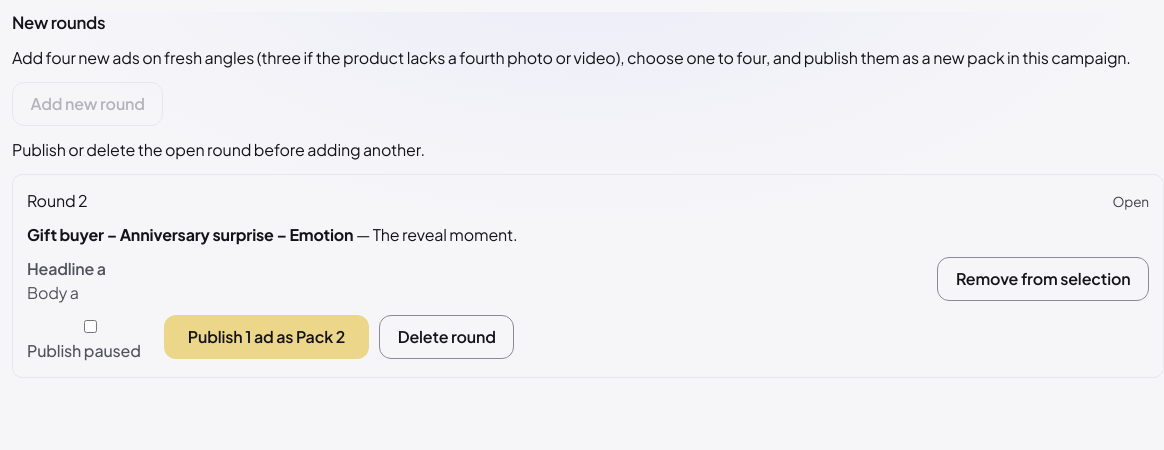
Test: CreativeRoundsPanel › reports a background publish that failed and keeps the round open
Click the button "Publish 1 ad as Pack 2": x=266, y=337 [164,315,369,359]
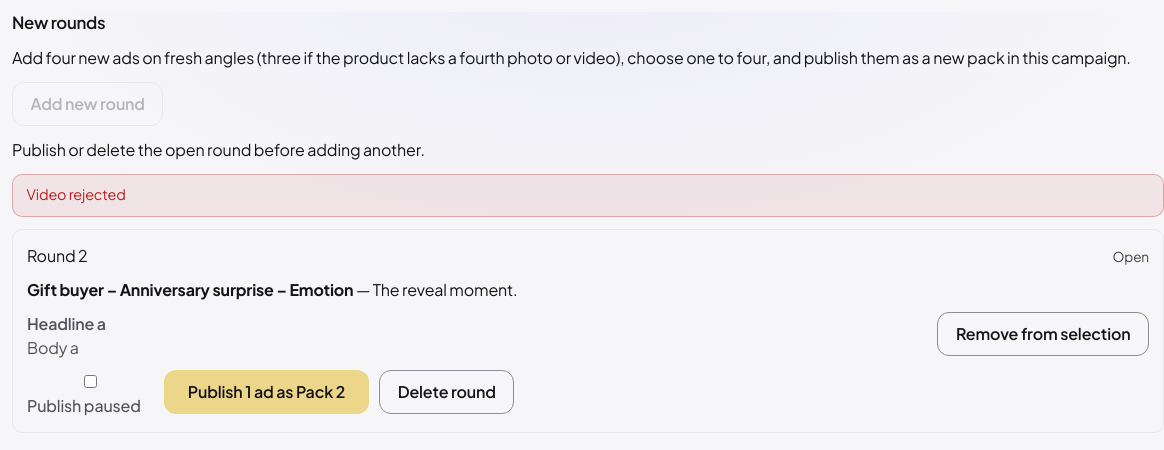
Check: the button "Publish 1 ad as Pack 2" is enabled, box [164,370,369,414]
Check: the message reads "Video rejected", box [27,185,126,203]
